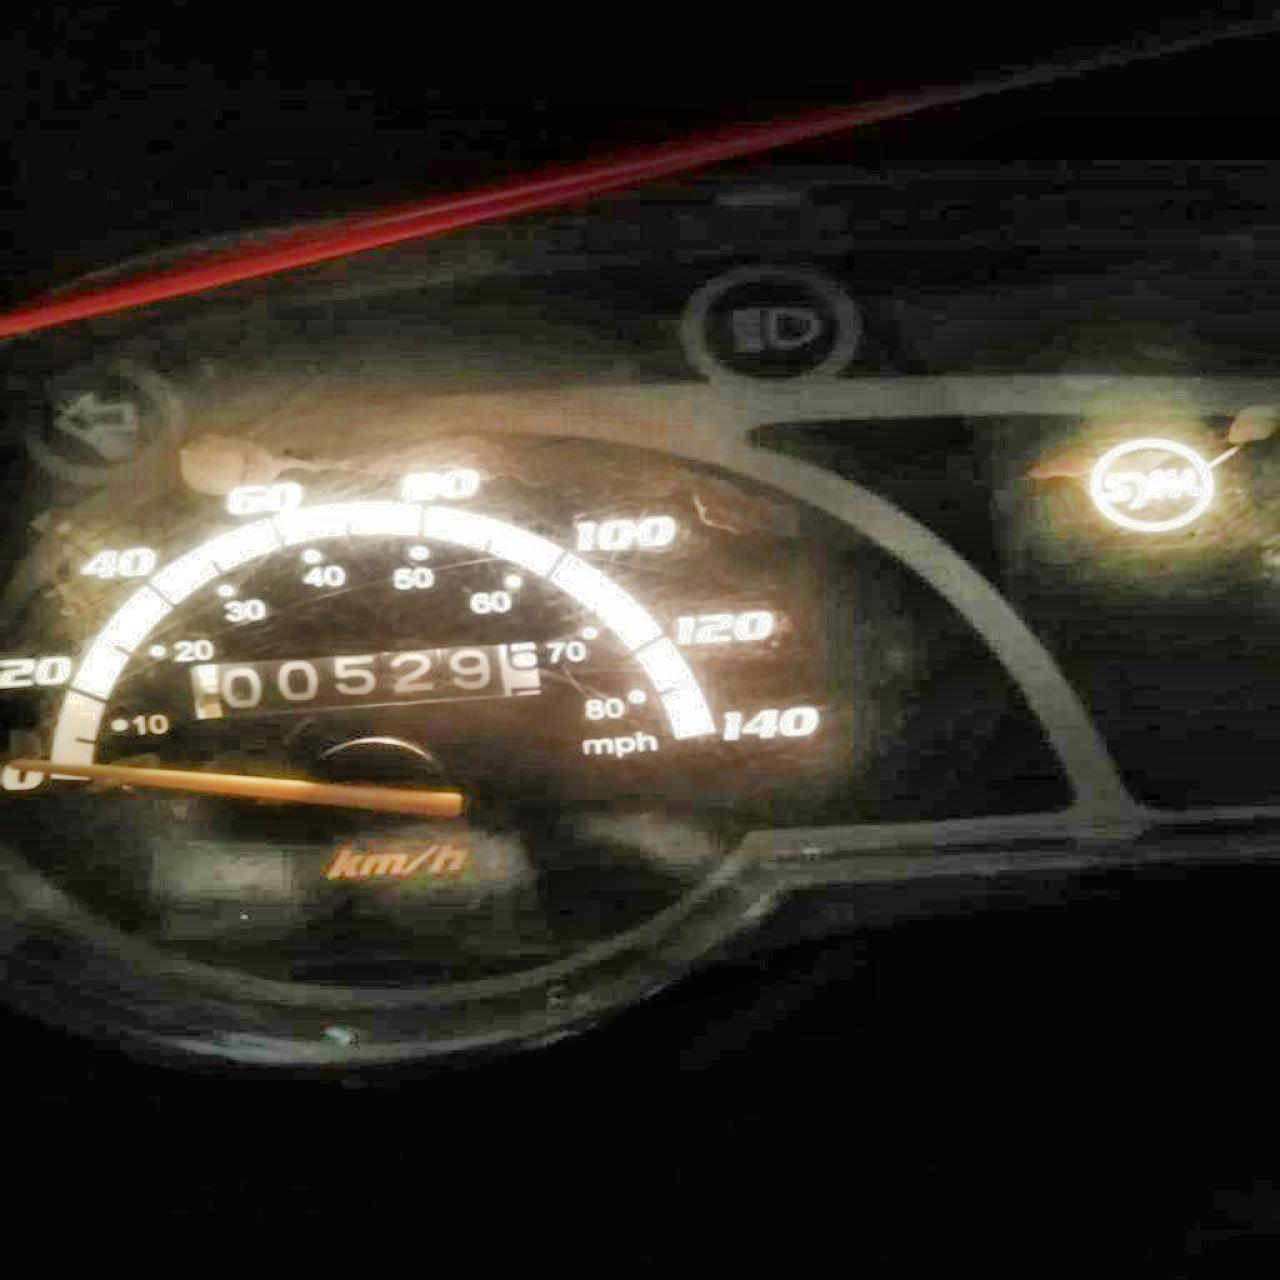0: (274, 658, 319, 701), (220, 667, 261, 708), (192, 639, 213, 660)
2: (387, 651, 434, 692), (172, 639, 193, 660)
5: (332, 653, 375, 695)
6: (504, 636, 538, 670)
9: (447, 648, 490, 690)
odometer: (184, 639, 544, 722)
